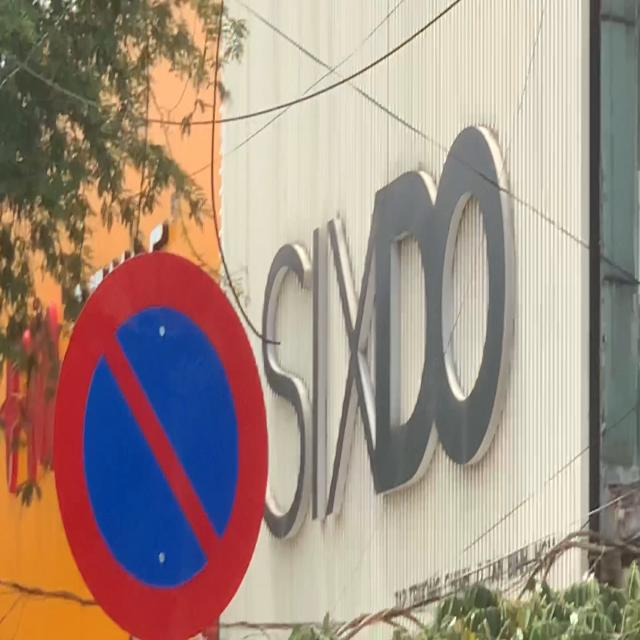Cam do: (50, 252, 273, 640)
